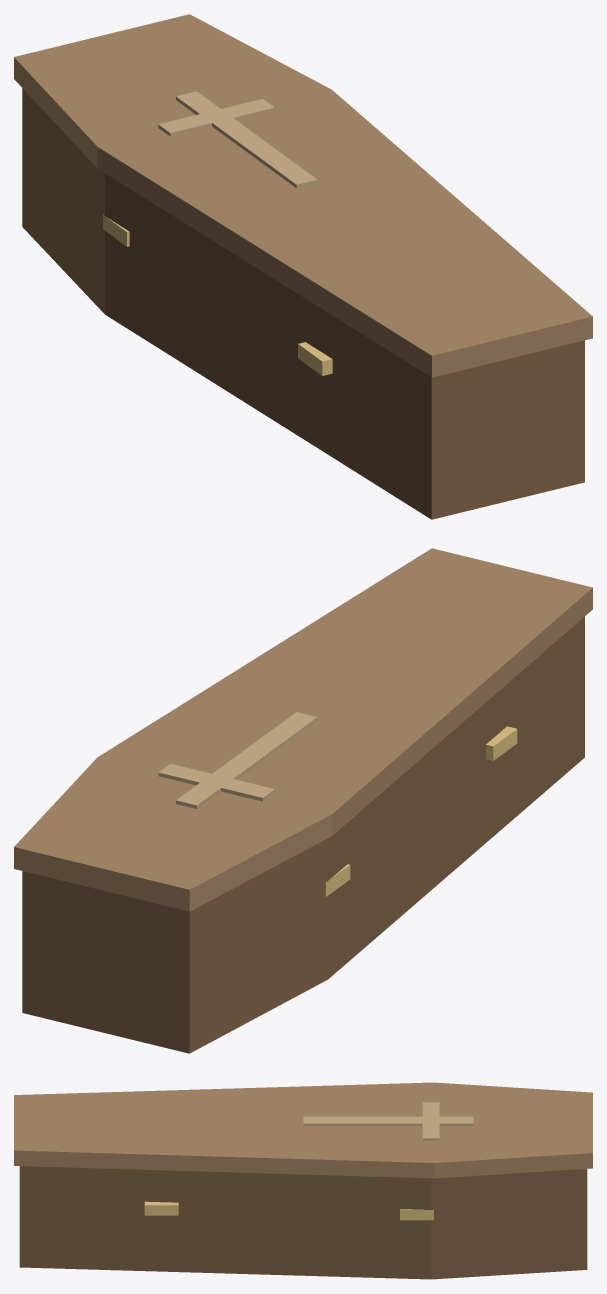
The model's file is SM_Coffin.glb.
3 views of the same model, one above another, from view 1: azimuth 30°, elevation 25°; view 2: azimuth 150°, elevation 25°; view 3: azimuth 270°, elevation 25° (orthographic). The views are drawn at different scales.
Parts seen in each view (by area): view 1: SM_Coffin; view 2: SM_Coffin; view 3: SM_Coffin.
Part boxes in pixels (x1=…): SM_Coffin: x1=14, y1=14, x2=592, y2=519; SM_Coffin: x1=14, y1=548, x2=592, y2=1053; SM_Coffin: x1=14, y1=1082, x2=592, y2=1279.
Size of the model in its own units: 0.672 by 0.47 by 2.04.
